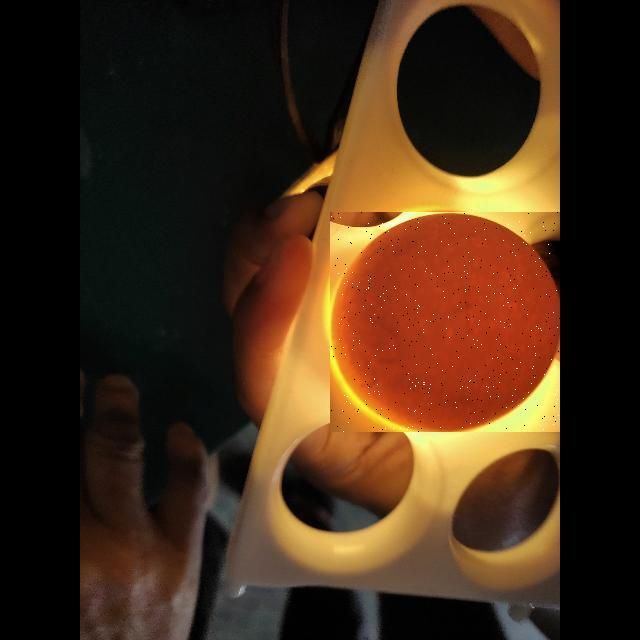A - Good: (330, 212, 560, 432)
